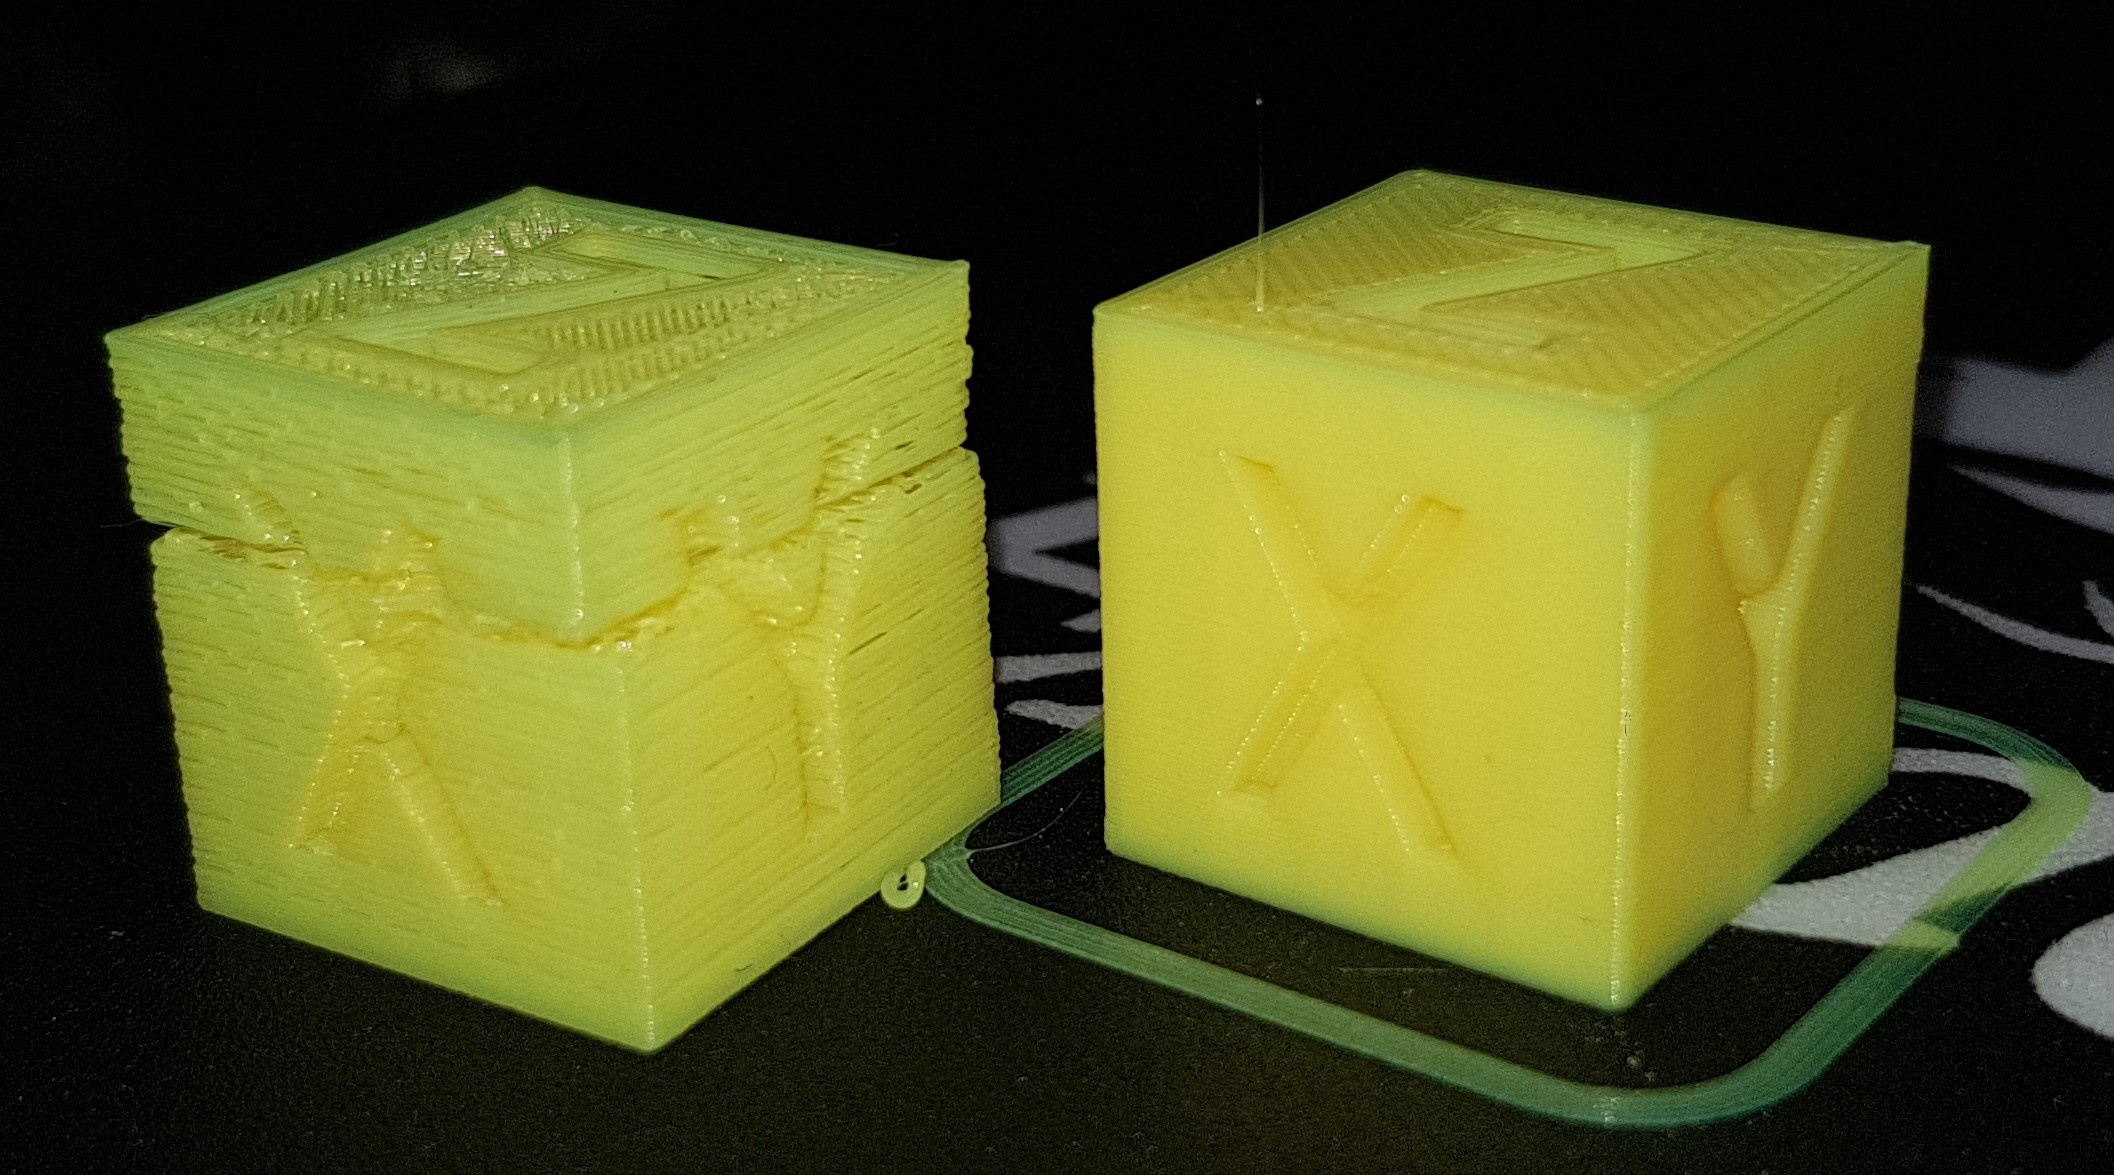Layer Shifting: (105, 440, 1058, 634)
